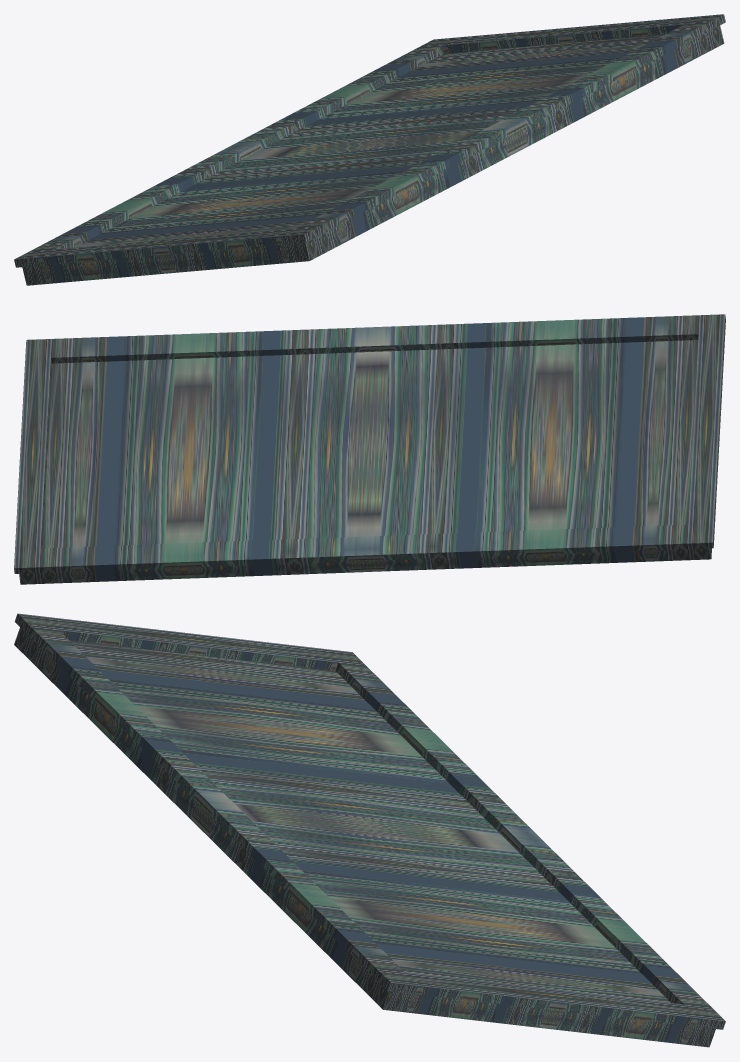
The model's file is 屋顶枢轴.obj.
3 renders of one model, top to bottom at view 1: azimuth 30°, elevation 25°; view 2: azimuth 150°, elevation 25°; view 3: azimuth 270°, elevation 25°, orthographic. The views are drawn at different scales.
Parts seen in each view (by area): view 1: 屋顶枢轴; view 2: 屋顶枢轴; view 3: 屋顶枢轴.
Part boxes in pixels (x1=…): 屋顶枢轴: x1=14, y1=14, x2=725, y2=285; 屋顶枢轴: x1=14, y1=314, x2=725, y2=584; 屋顶枢轴: x1=14, y1=613, x2=725, y2=1047.
Size of the model in its own units: 1.34 by 0.3057 by 1.03.
1 material, 1 textured.
